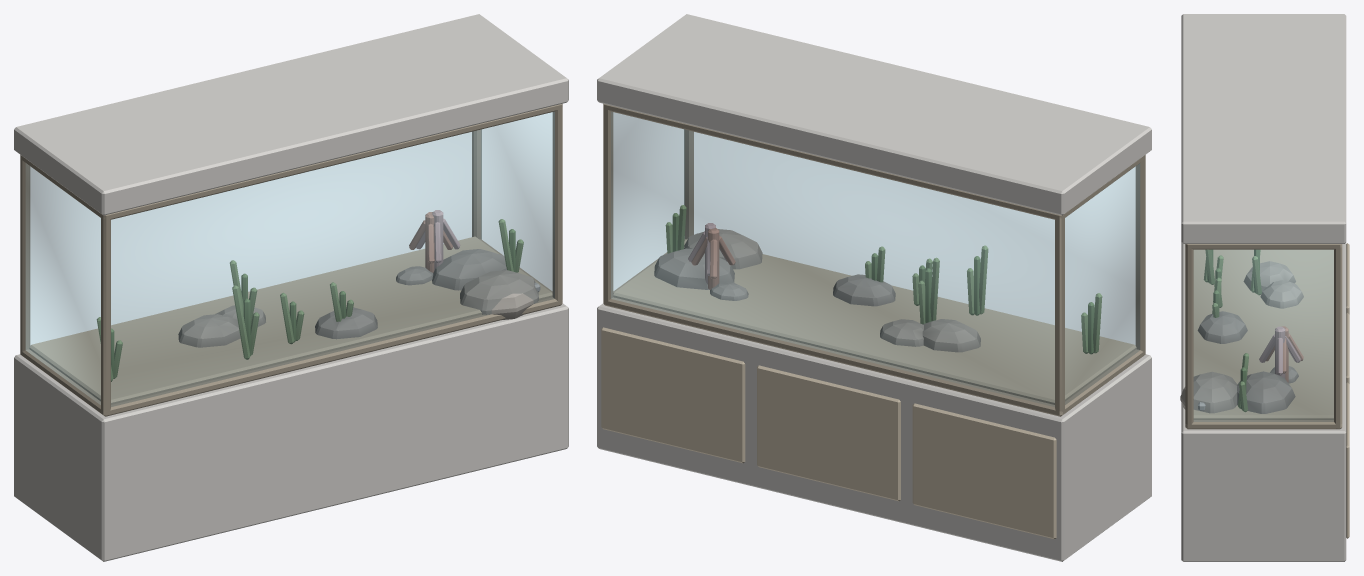
The model's file is furn_aquarium_big__white.glb.
3 renders of one model, left to right at view 1: azimuth 30°, elevation 25°; view 2: azimuth 150°, elevation 25°; view 3: azimuth 270°, elevation 25°, orthographic. The views are drawn at different scales.
Size of the model in its own units: 2.4 by 1.82 by 0.8194.
